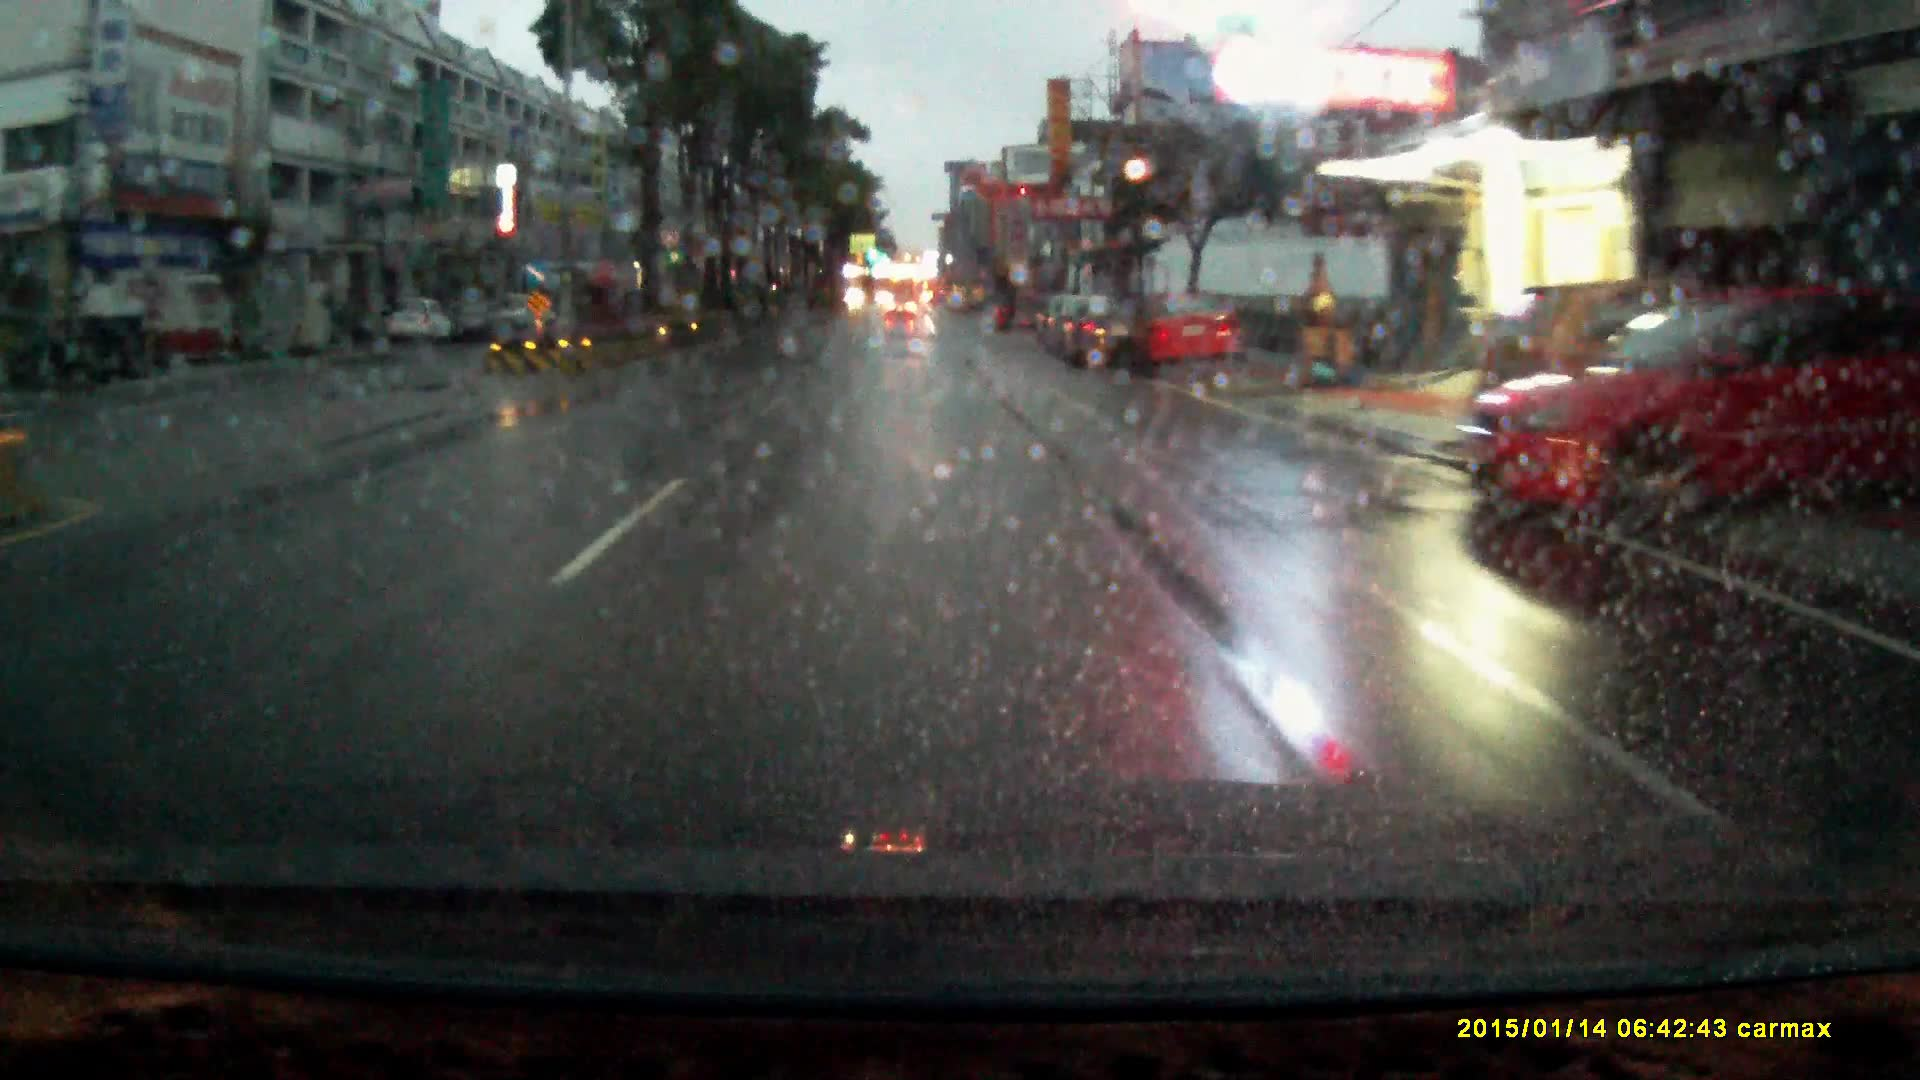vehicle: (1465, 280, 1880, 526), (1127, 289, 1245, 381), (1058, 294, 1135, 373), (382, 290, 456, 345), (492, 287, 563, 334), (1042, 289, 1063, 343), (887, 291, 918, 318)
